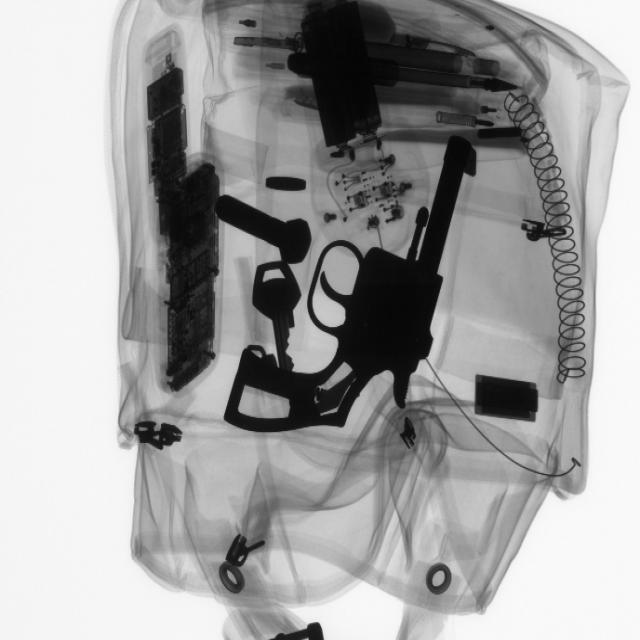GUN: (223, 140, 488, 443)
